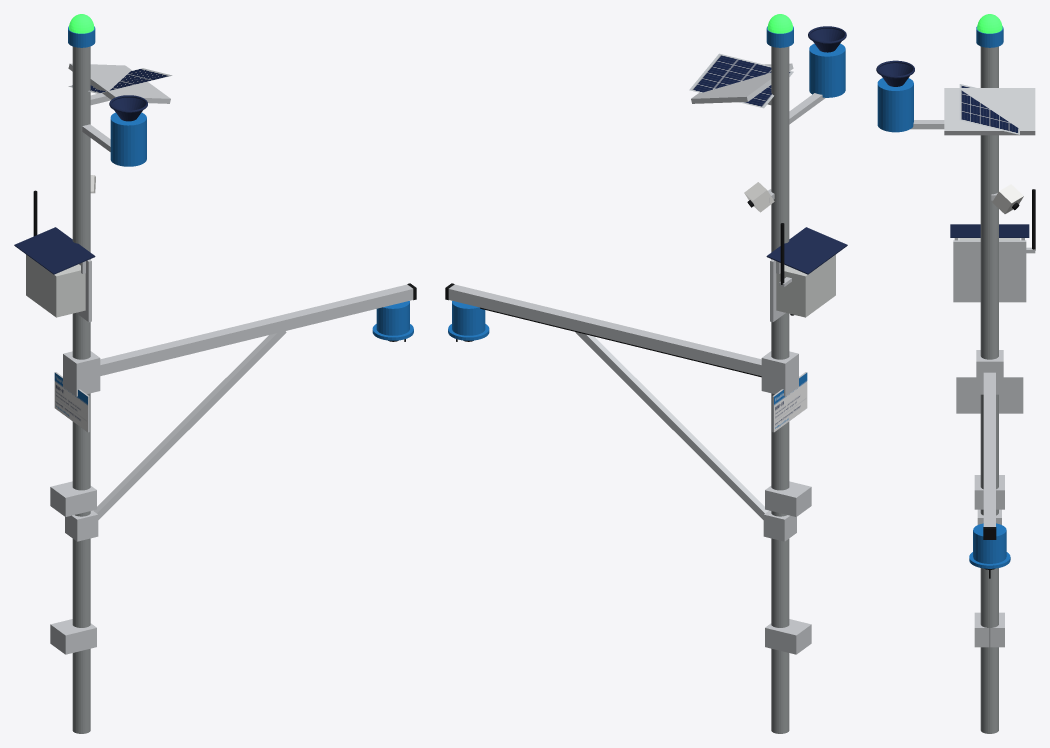
File: FloodWay_RiverNode_v1.glb
3 renders of one model, left to right at view 1: azimuth 30°, elevation 25°; view 2: azimuth 150°, elevation 25°; view 3: azimuth 270°, elevation 25°, orthographic.
Visible parts, largest first — view 1: Mast_GI_Pipe_2in, Arm_Al_40x40, Brace_Al_25x25, Enclosure_Hood, RainGauge_Body_rPETG, Solar_Panel_6V6W_Frame, Enclosure_Lid, Clamp_Arm, Clamp_Railing_2, Clamp_Railing_1, Enclosure_IP65_200x150x100, Sign_Plate_Face (+3 smaller); view 2: Mast_GI_Pipe_2in, Arm_Al_40x40, Brace_Al_25x25, Solar_Panel_6V6W_Cells, Enclosure_Hood, RainGauge_Body_rPETG, Enclosure_Lid, Clamp_Arm, Solar_Panel_6V6W_Frame, Clamp_Railing_2, Clamp_Railing_1, Sign_Plate_Face (+3 smaller); view 3: Mast_GI_Pipe_2in, Enclosure_Backplate, Solar_Panel_6V6W_Frame, Arm_Al_40x40, RainGauge_Body_rPETG, Sign_Plate_Backing, Solar_Panel_6V6W_Cells, SensorHead_Hood_rPETG, Enclosure_Hood, Clamp_Railing_1, Clamp_Arm, Clamp_Railing_2 (+6 smaller).
Part boxes in pixels (x1,y1,x2,y2): Mast_GI_Pipe_2in: (72, 46, 90, 733); Arm_Al_40x40: (100, 284, 413, 375); Brace_Al_25x25: (93, 331, 286, 519); Enclosure_Hood: (14, 227, 95, 274); RainGauge_Body_rPETG: (110, 112, 146, 166); Solar_Panel_6V6W_Frame: (68, 63, 170, 103); Enclosure_Lid: (26, 254, 59, 317); Clamp_Arm: (63, 351, 100, 396); Clamp_Railing_2: (50, 481, 96, 516); Clamp_Railing_1: (50, 619, 96, 654); Enclosure_IP65_200x150x100: (57, 264, 85, 316); Sign_Plate_Face: (54, 373, 87, 432); Mast_GI_Pipe_2in: (771, 46, 789, 733); Arm_Al_40x40: (448, 284, 761, 375); Brace_Al_25x25: (575, 332, 768, 519); Solar_Panel_6V6W_Cells: (689, 53, 793, 108); Enclosure_Hood: (766, 227, 847, 274); RainGauge_Body_rPETG: (809, 43, 845, 97); Enclosure_Lid: (802, 254, 835, 317); Clamp_Arm: (761, 351, 798, 396); Solar_Panel_6V6W_Frame: (691, 63, 793, 103); Clamp_Railing_2: (765, 481, 811, 516); Clamp_Railing_1: (765, 619, 811, 654); Sign_Plate_Face: (774, 373, 807, 432); Mast_GI_Pipe_2in: (980, 46, 998, 733); Enclosure_Backplate: (953, 240, 1026, 302); Solar_Panel_6V6W_Frame: (944, 88, 1035, 135); Arm_Al_40x40: (983, 372, 995, 526); RainGauge_Body_rPETG: (877, 78, 913, 132); Sign_Plate_Backing: (956, 377, 1023, 413); Solar_Panel_6V6W_Cells: (959, 84, 1019, 134); SensorHead_Hood_rPETG: (973, 523, 1006, 563); Enclosure_Hood: (950, 224, 1029, 237); Clamp_Railing_1: (974, 612, 1004, 647); Clamp_Arm: (976, 350, 1003, 394); Clamp_Railing_2: (974, 475, 1004, 509).
Bounding box in the file's own units: 1.44 × 2.6 × 0.525.
15 materials, 2 textured.
